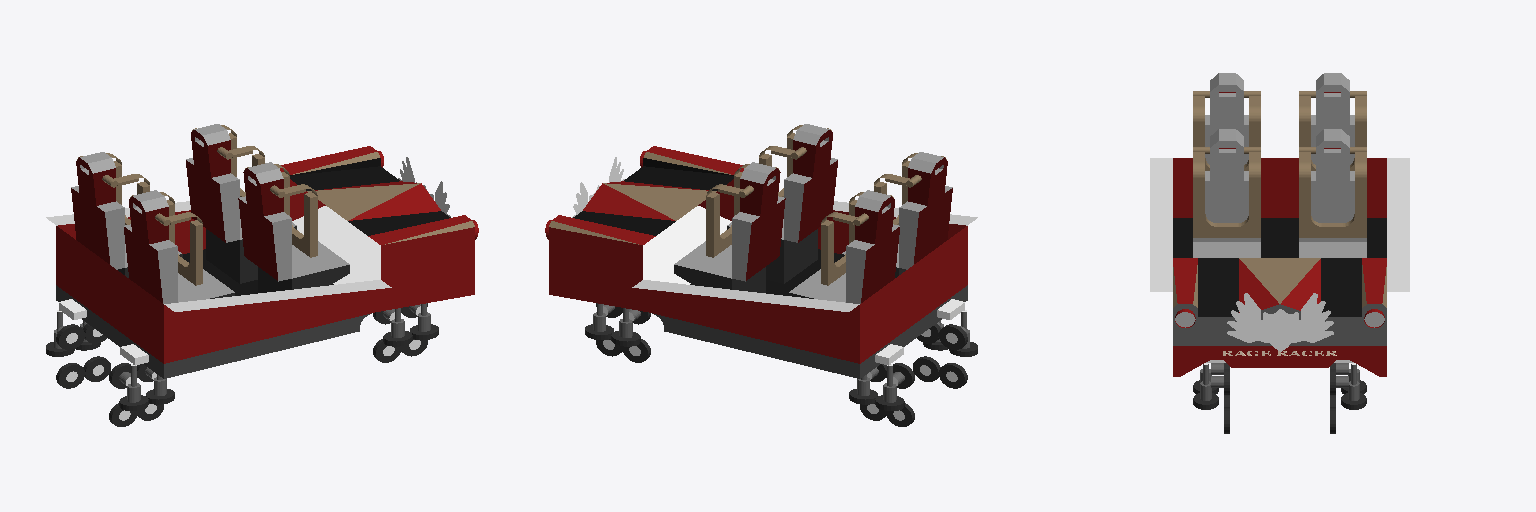
3 renders of one model, left to right at view 1: azimuth 30°, elevation 25°; view 2: azimuth 150°, elevation 25°; view 3: azimuth 270°, elevation 25°, orthographic.
Parts seen in each view (by area): view 1: Mesh25 Group1 Model, Mesh7 Group8 Group1 Model, Mesh8 Group9 Group1 Model, Mesh10 Group11 Group1 Model, Mesh1 Group2 Group1 Model, Mesh6 Group7 Group1 Model, Mesh12 Group13 Group1 Model, Mesh9 Group10 Group1 Model, Mesh4 Group5 Group1 Model, Mesh13 Group14 Group1 Model, Mesh3 Group4 Group1 Model, Mesh5 Group6 Group1 Model (+1 smaller); view 2: Mesh25 Group1 Model, Mesh10 Group11 Group1 Model, Mesh1 Group2 Group1 Model, Mesh7 Group8 Group1 Model, Mesh8 Group9 Group1 Model, Mesh4 Group5 Group1 Model, Mesh11 Group12 Group1 Model, Mesh3 Group4 Group1 Model, Mesh6 Group7 Group1 Model, Mesh15 Group16 Group1 Model, Mesh2 Group3 Group1 Model, Mesh9 Group10 Group1 Model (+1 smaller); view 3: Mesh25 Group1 Model, Mesh7 Group8 Group1 Model, Mesh10 Group11 Group1 Model, Mesh1 Group2 Group1 Model, Mesh8 Group9 Group1 Model, Mesh17 Group18 Group1 Model, Mesh12 Group13 Group1 Model, Mesh11 Group12 Group1 Model.
Boxes of the visible parts, x1,y1,x2,y2 form: Mesh25 Group1 Model: [46, 146, 478, 378]; Mesh7 Group8 Group1 Model: [238, 162, 349, 292]; Mesh8 Group9 Group1 Model: [124, 190, 234, 303]; Mesh10 Group11 Group1 Model: [186, 124, 296, 283]; Mesh1 Group2 Group1 Model: [71, 152, 182, 277]; Mesh6 Group7 Group1 Model: [119, 344, 174, 410]; Mesh12 Group13 Group1 Model: [383, 303, 438, 346]; Mesh9 Group10 Group1 Model: [56, 356, 110, 388]; Mesh4 Group5 Group1 Model: [46, 299, 100, 356]; Mesh13 Group14 Group1 Model: [56, 322, 106, 349]; Mesh3 Group4 Group1 Model: [109, 403, 163, 426]; Mesh5 Group6 Group1 Model: [373, 339, 427, 362]; Mesh25 Group1 Model: [545, 146, 977, 378]; Mesh10 Group11 Group1 Model: [674, 162, 785, 292]; Mesh1 Group2 Group1 Model: [789, 190, 899, 303]; Mesh7 Group8 Group1 Model: [727, 124, 837, 283]; Mesh8 Group9 Group1 Model: [841, 152, 952, 277]; Mesh4 Group5 Group1 Model: [849, 344, 904, 410]; Mesh11 Group12 Group1 Model: [585, 303, 640, 346]; Mesh3 Group4 Group1 Model: [913, 356, 967, 388]; Mesh6 Group7 Group1 Model: [923, 299, 977, 356]; Mesh15 Group16 Group1 Model: [917, 322, 967, 349]; Mesh2 Group3 Group1 Model: [596, 339, 650, 362]; Mesh9 Group10 Group1 Model: [860, 403, 914, 426]; Mesh25 Group1 Model: [1150, 158, 1409, 376]; Mesh7 Group8 Group1 Model: [1193, 129, 1260, 257]; Mesh10 Group11 Group1 Model: [1299, 129, 1366, 257]; Mesh1 Group2 Group1 Model: [1299, 73, 1366, 170]; Mesh8 Group9 Group1 Model: [1193, 73, 1260, 170]; Mesh17 Group18 Group1 Model: [1227, 293, 1333, 351]; Mesh12 Group13 Group1 Model: [1193, 360, 1225, 409]; Mesh11 Group12 Group1 Model: [1334, 360, 1366, 409].
Size of the model in its own units: 128 by 79.4 by 83.38.